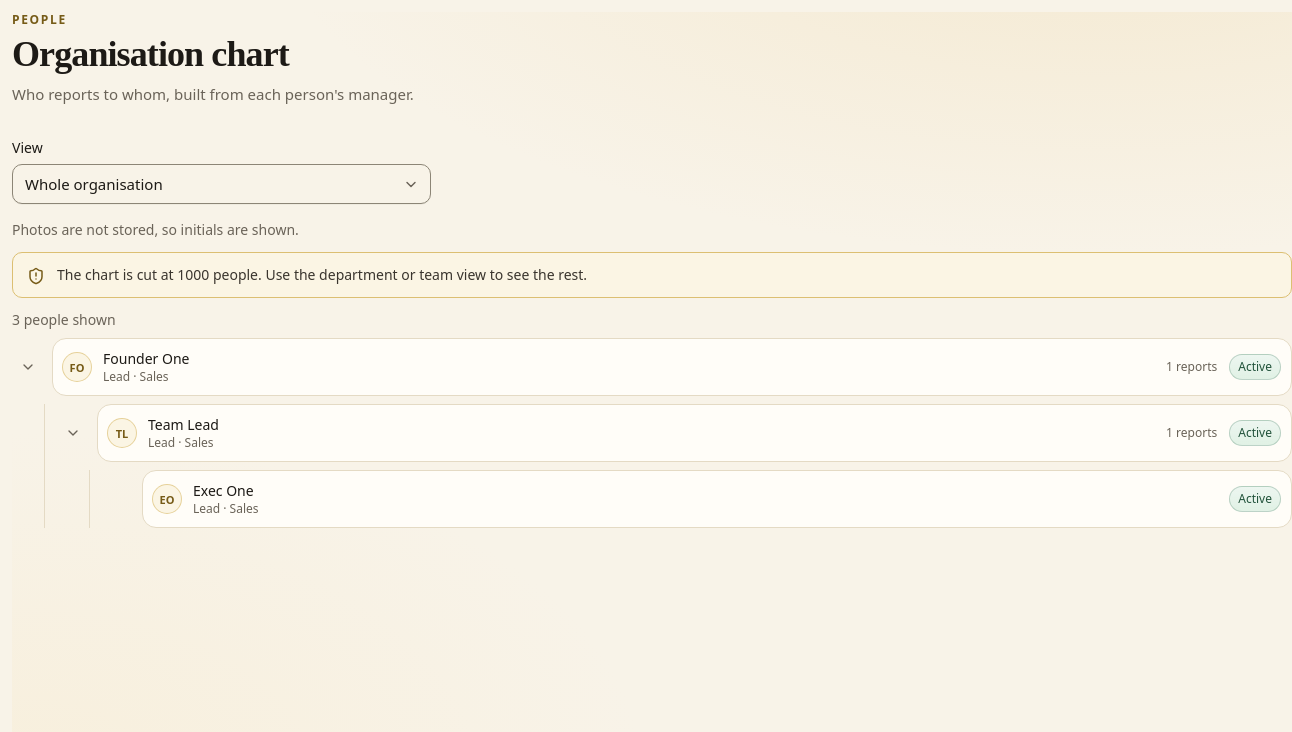
Test case: OrgChartPage › warns when truncated, requests the department view, and shows empty
Expected: the text "cut at 1000 people" is shown, [57,265,587,284]
Step 1. Select "Department" in the dropdown labelled "View" → (221, 184), box [12,164,431,204]
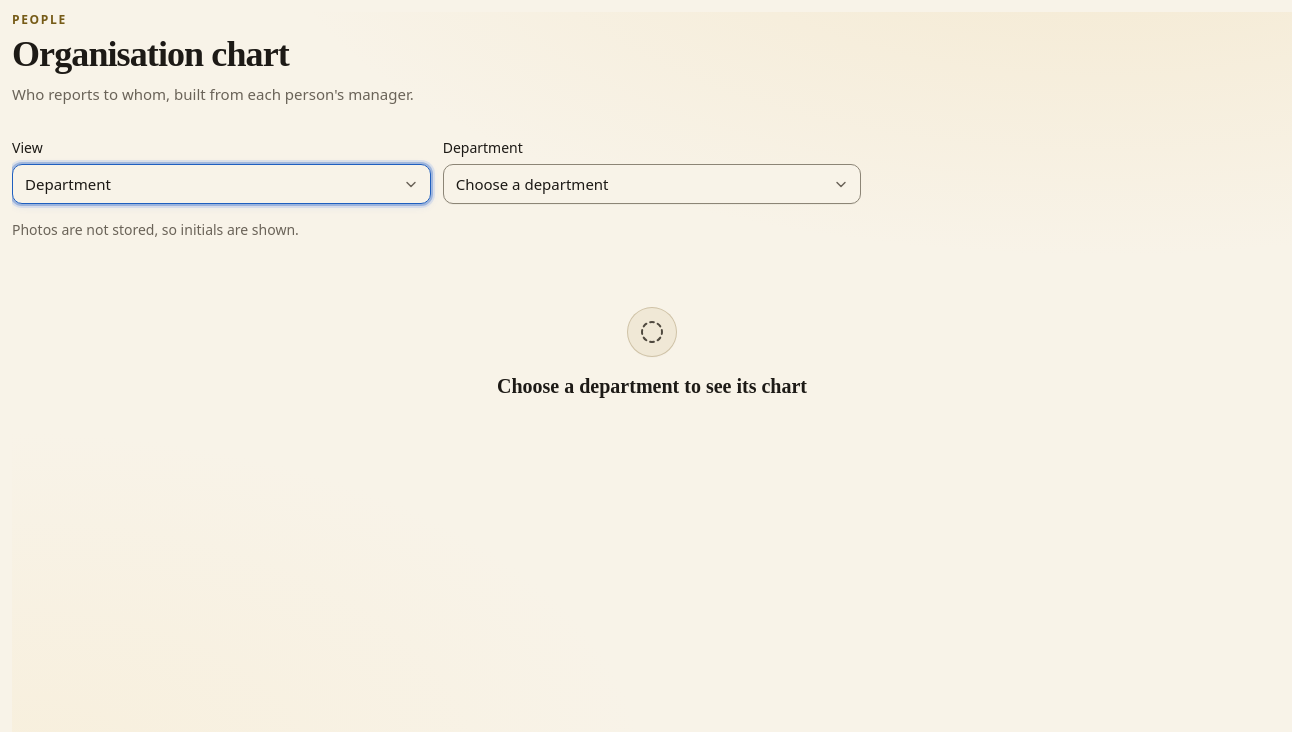
Result: the heading "Choose a department to see its chart" is shown at [497,372,807,400]
